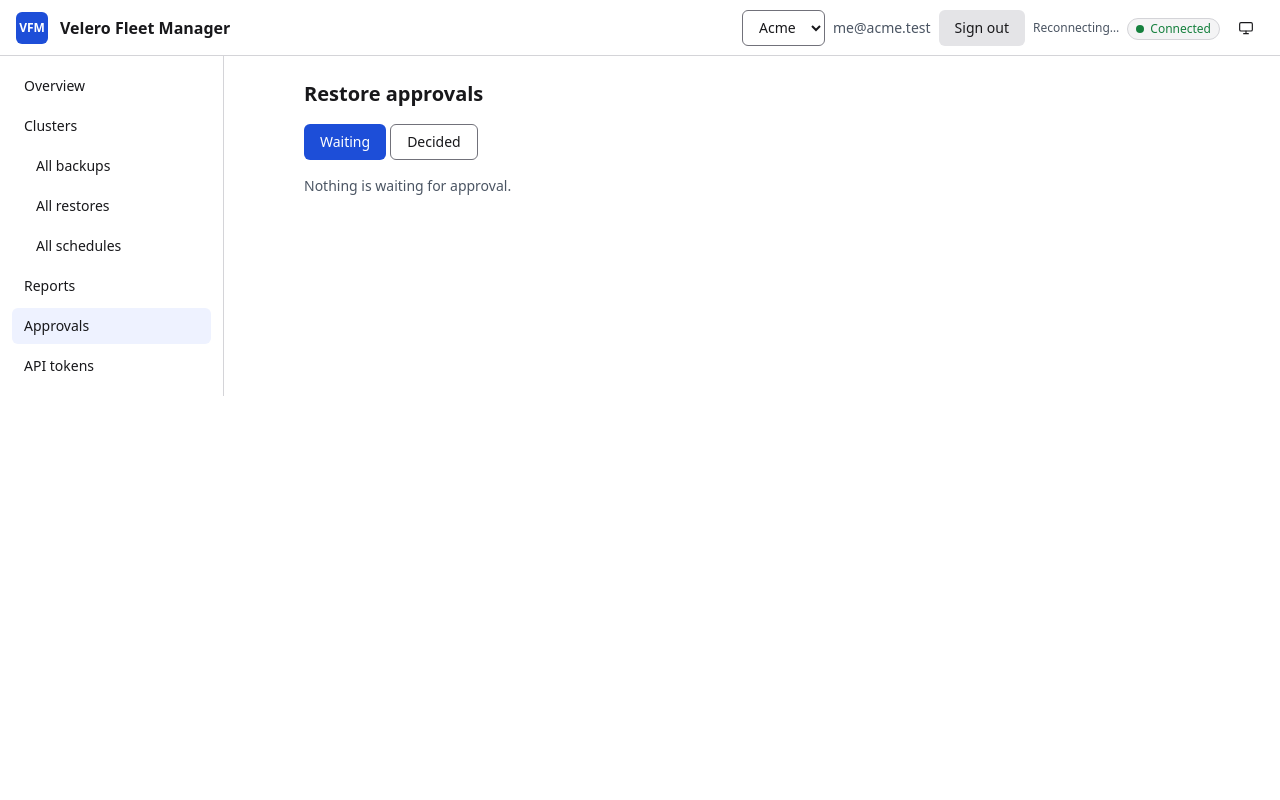
Test: the approvals page › shows how decided requests ended
Click the button "Decided".
click(434, 142)  # box [390,124,478,160]
(page scrolled)
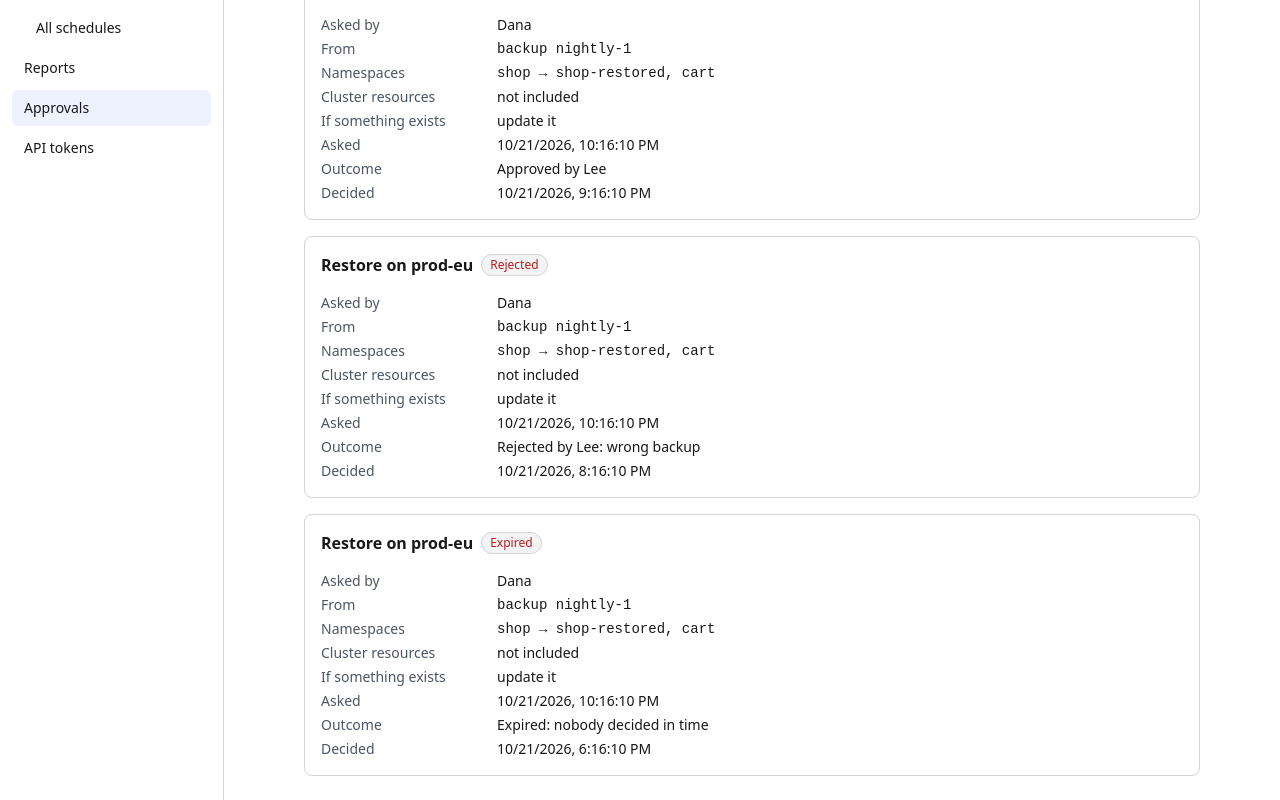
Expected: the text "Approved by Lee" is shown, [497,159,606,178]
Expected: the text "Rejected by Lee: wrong backup" is shown, [497,437,700,456]
Expected: the text "Expired: nobody decided in time" is shown, [497,715,709,734]
